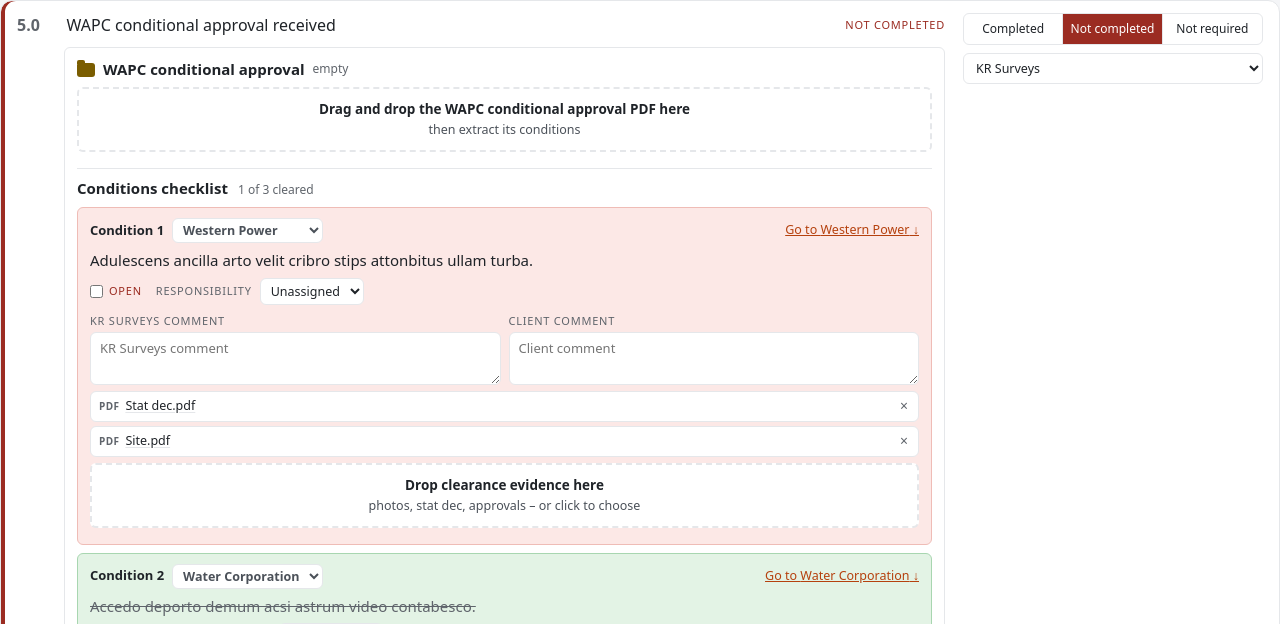
Test: condition evidence files › lets a file that someone else removed meanwhile (404) just disappear
This screenshot has width=1280, height=624.
Click the button named "Remove Stat dec.pdf" at (904,406), box [894,397,914,415]
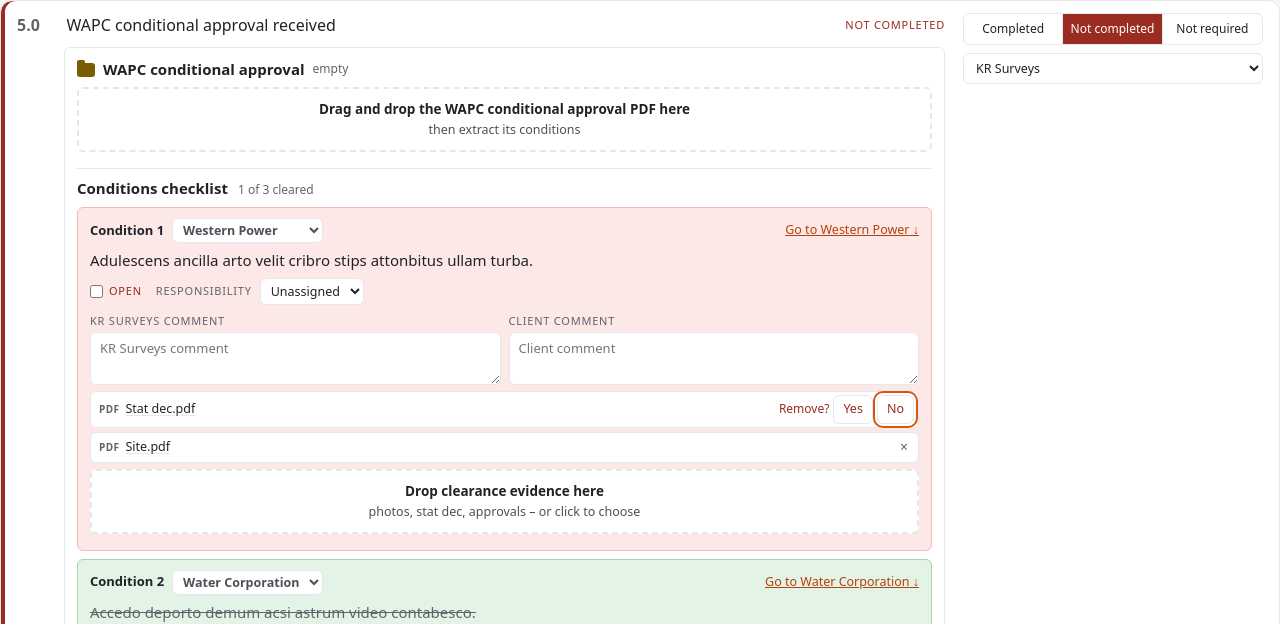
Click the button "Yes" at (853,409), box [833,395,873,424]
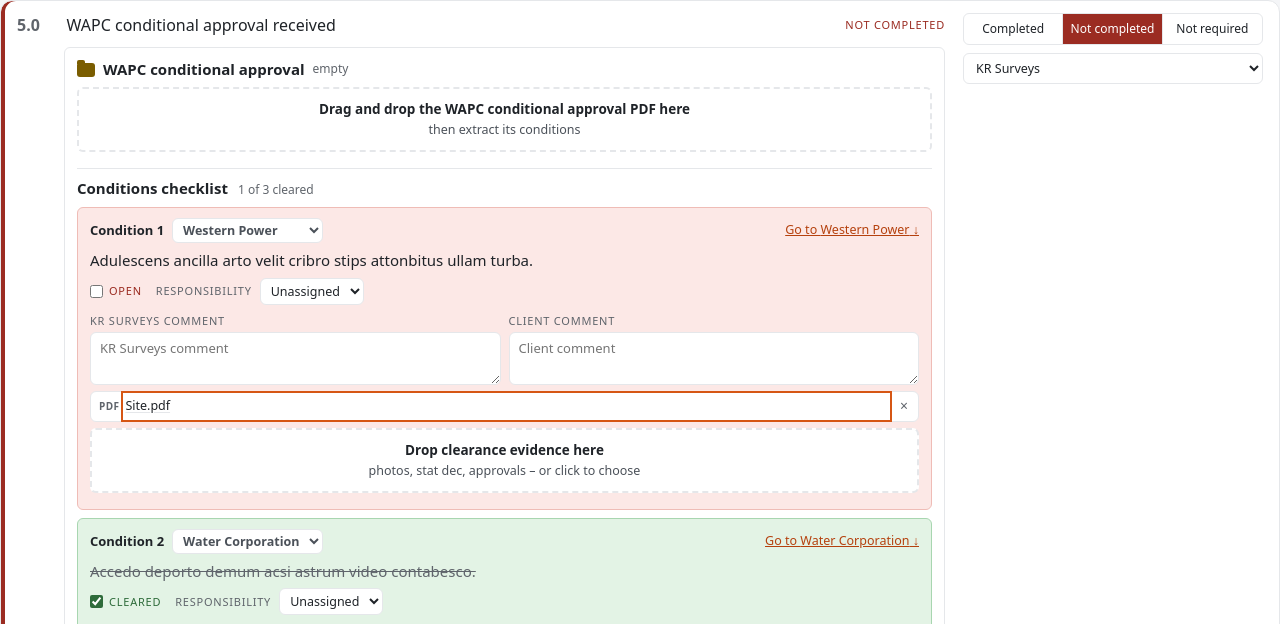
expect the button "Stat dec.pdf" is gone: met
